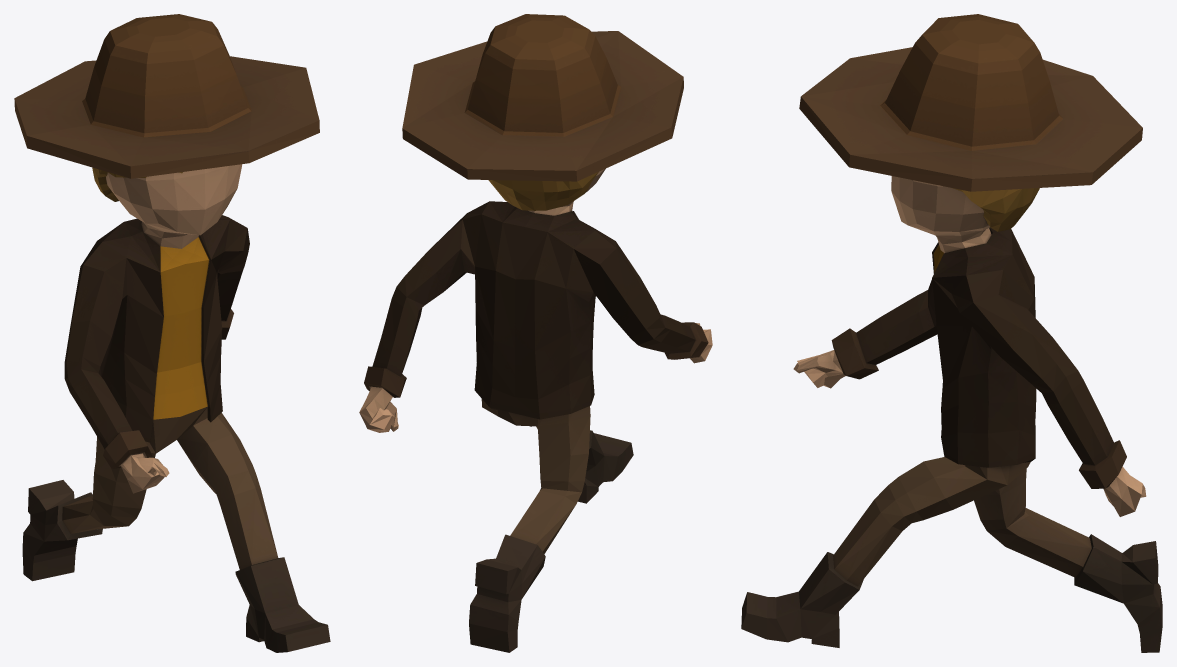
The model's file is male_run_02.obj.
3 renders of one model, left to right at view 1: azimuth 30°, elevation 25°; view 2: azimuth 150°, elevation 25°; view 3: azimuth 270°, elevation 25°, orthographic. The views are drawn at different scales.
Parts seen in each view (by area): view 1: Character_Cube.007; view 2: Character_Cube.007; view 3: Character_Cube.007.
Boxes of the visible parts, x1=… form: Character_Cube.007: x1=14, y1=14, x2=330, y2=652; Character_Cube.007: x1=359, y1=14, x2=712, y2=652; Character_Cube.007: x1=741, y1=14, x2=1162, y2=652.
Size of the model in its own units: 7.15 by 14.68 by 8.91.
Materials: 1 (1 with a texture image).
